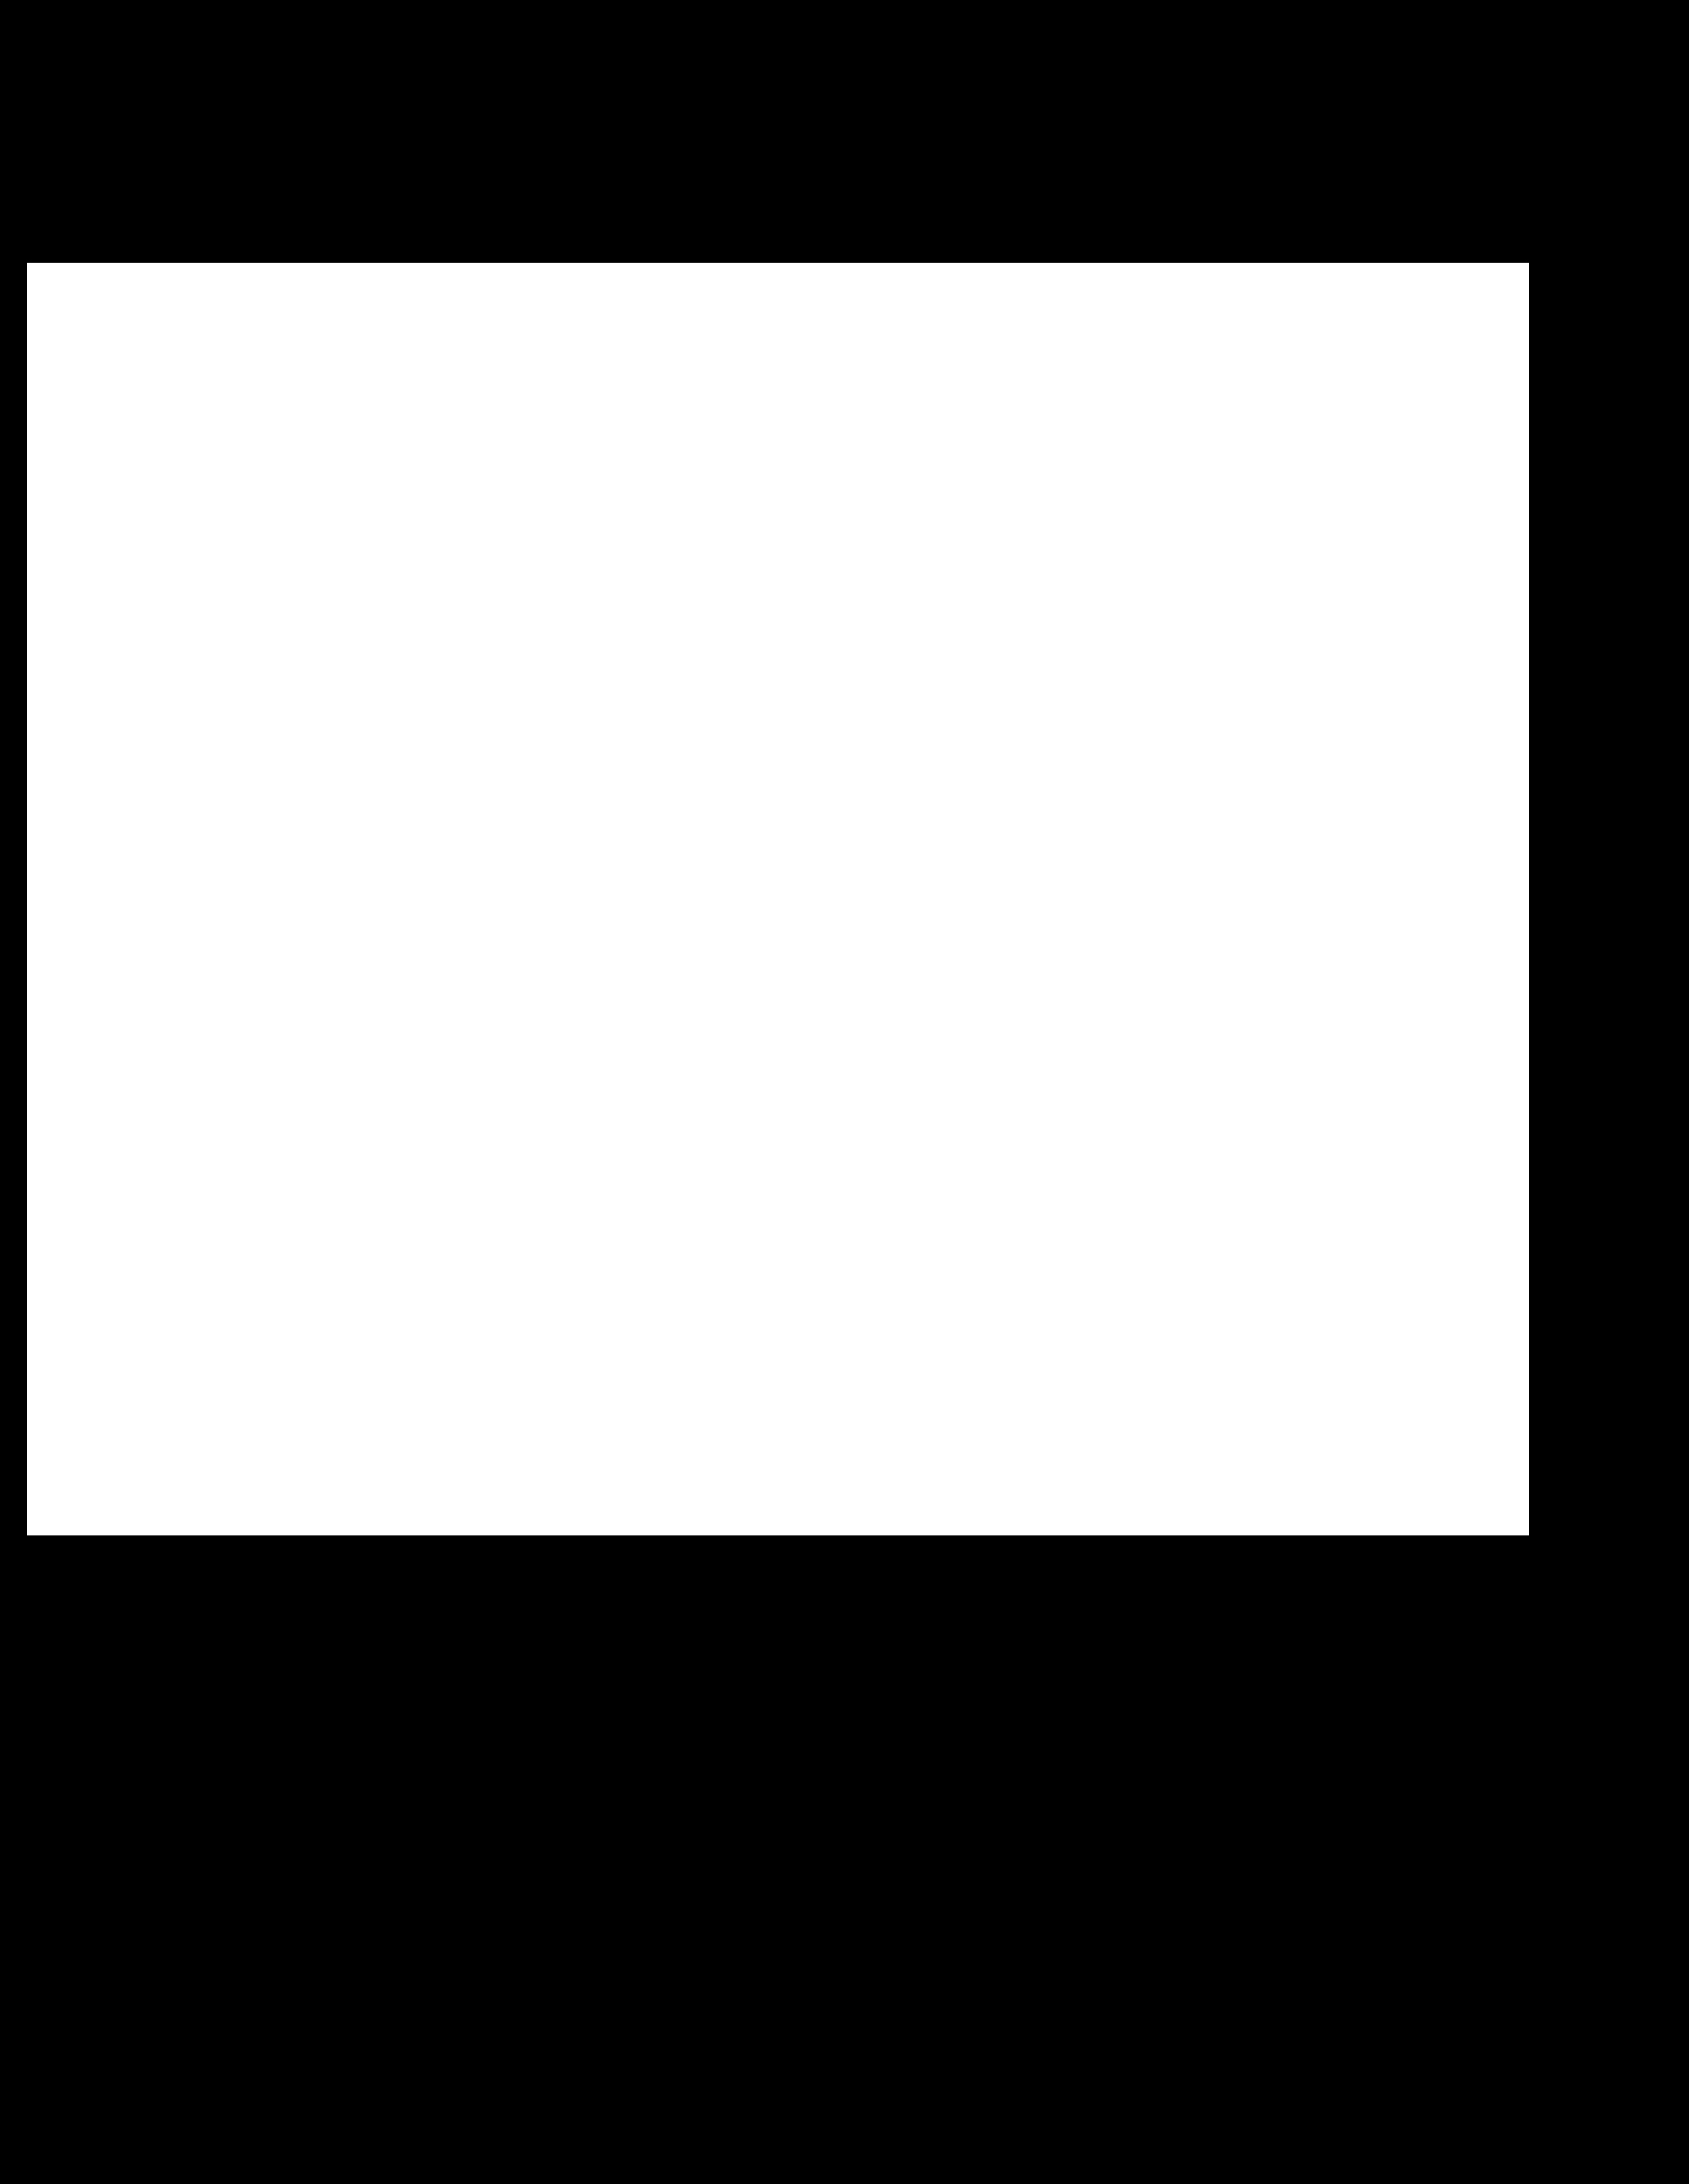table: (27, 262, 1528, 1535)
